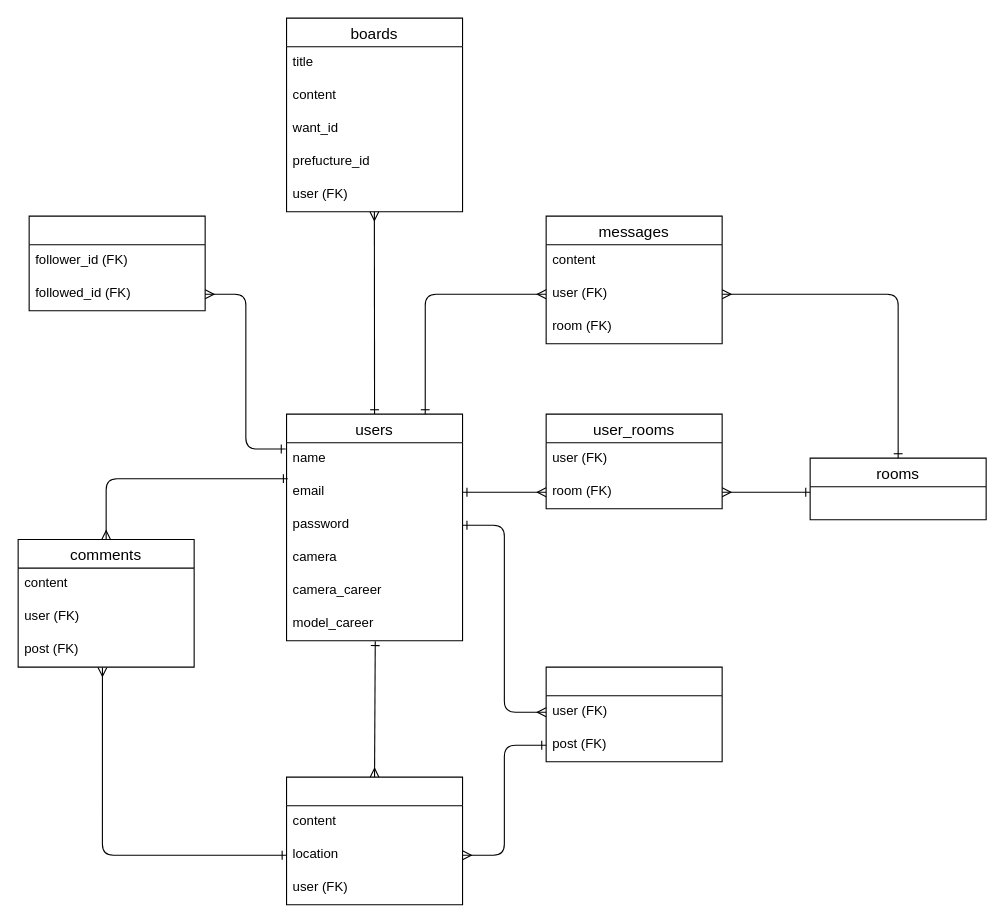
Image size: 1004x923. Some labels were removed from this diagram. Each missing label, with the box of its shape:
favorites: (545, 666, 722, 762)
posts: (285, 776, 463, 905)
relationships: (28, 215, 205, 311)
